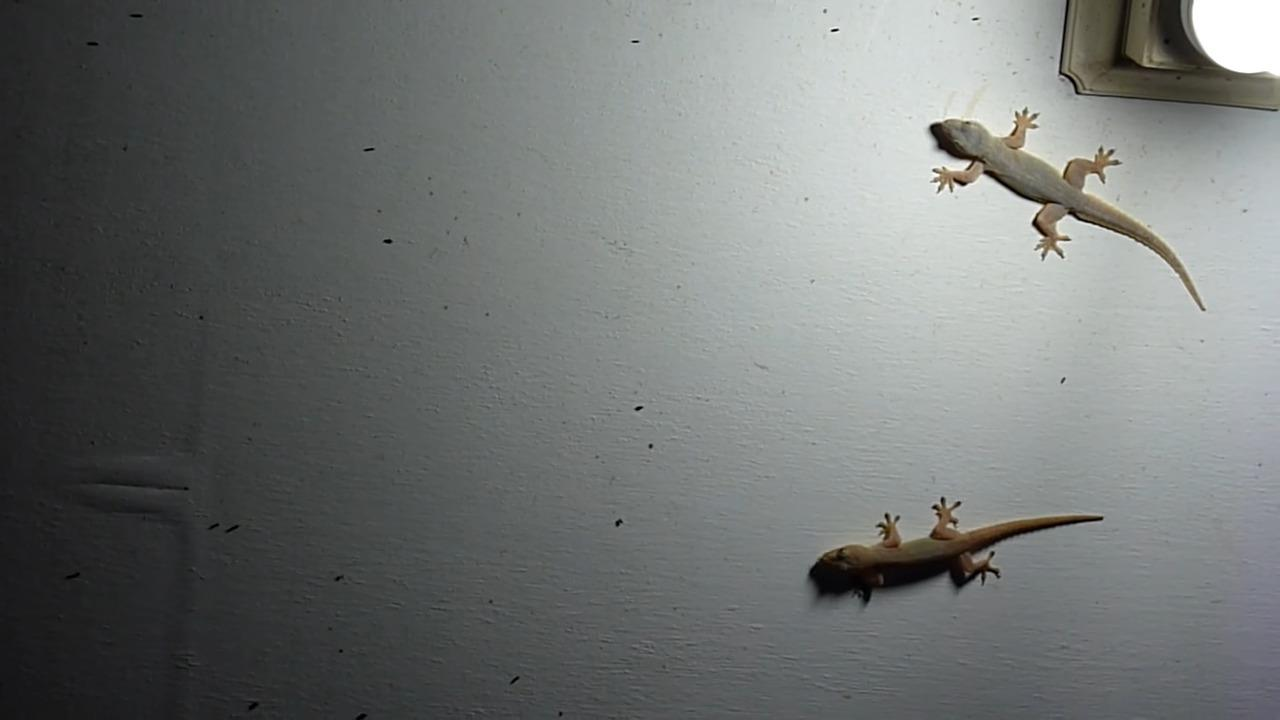lizard: (895, 100, 1218, 320), (789, 472, 1126, 615)
